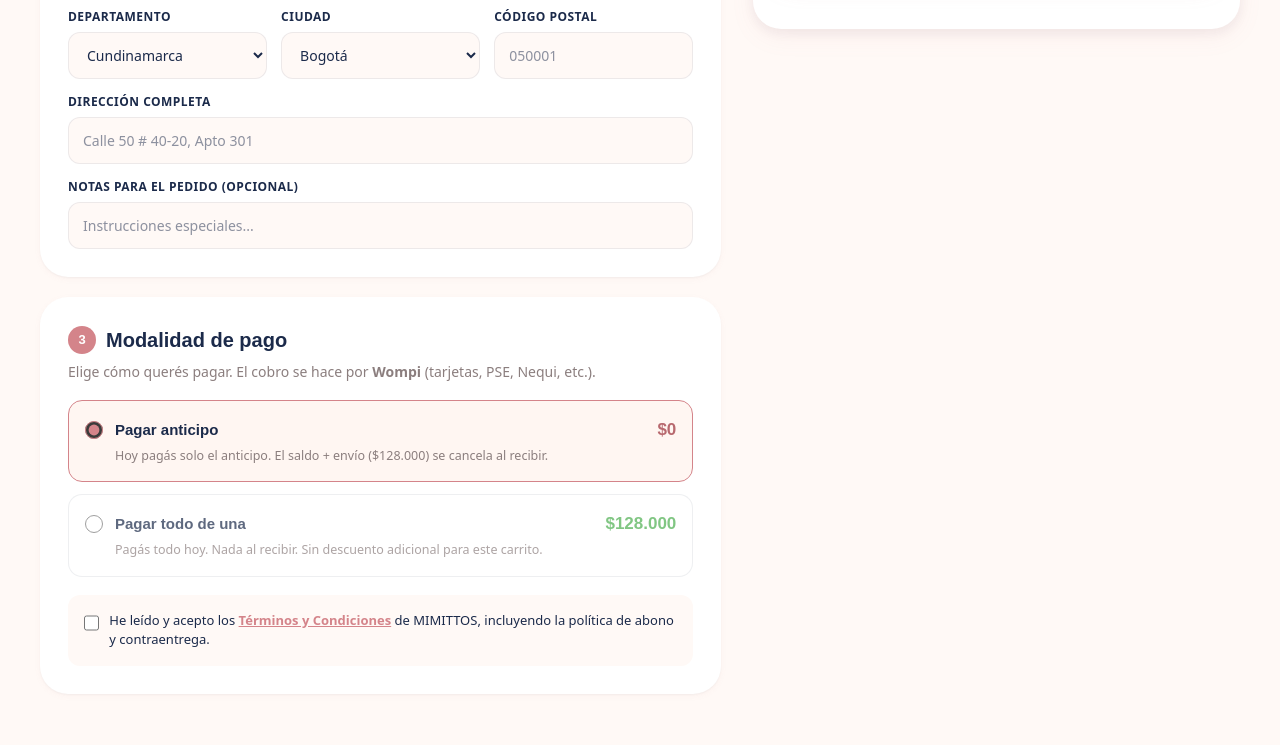
it: CheckoutPage › enables submit button after accepting terms
(page scrolled)
Click the checkbox at point(92, 623), box [84,614,99,632]
(page scrolled)
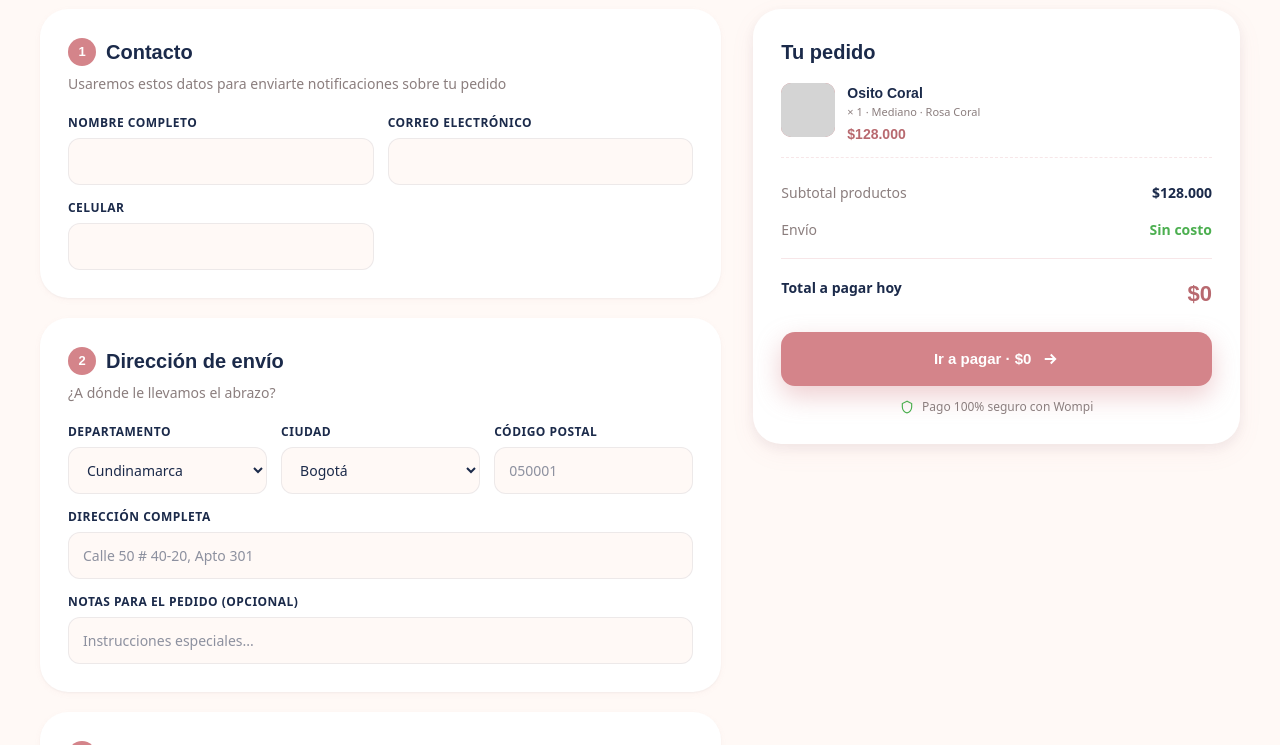
Check: the button "Ir a pagar · $0" is enabled, box [781,332,1212,386]
